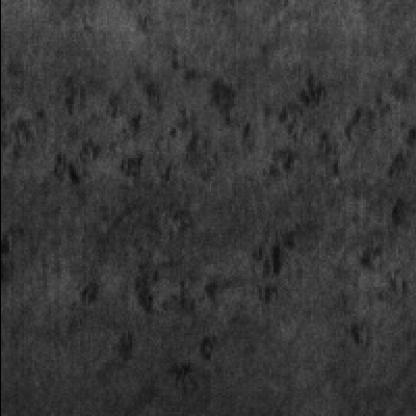rolled-in_scale: (2, 48, 248, 212), (164, 52, 410, 204), (60, 246, 280, 366)
